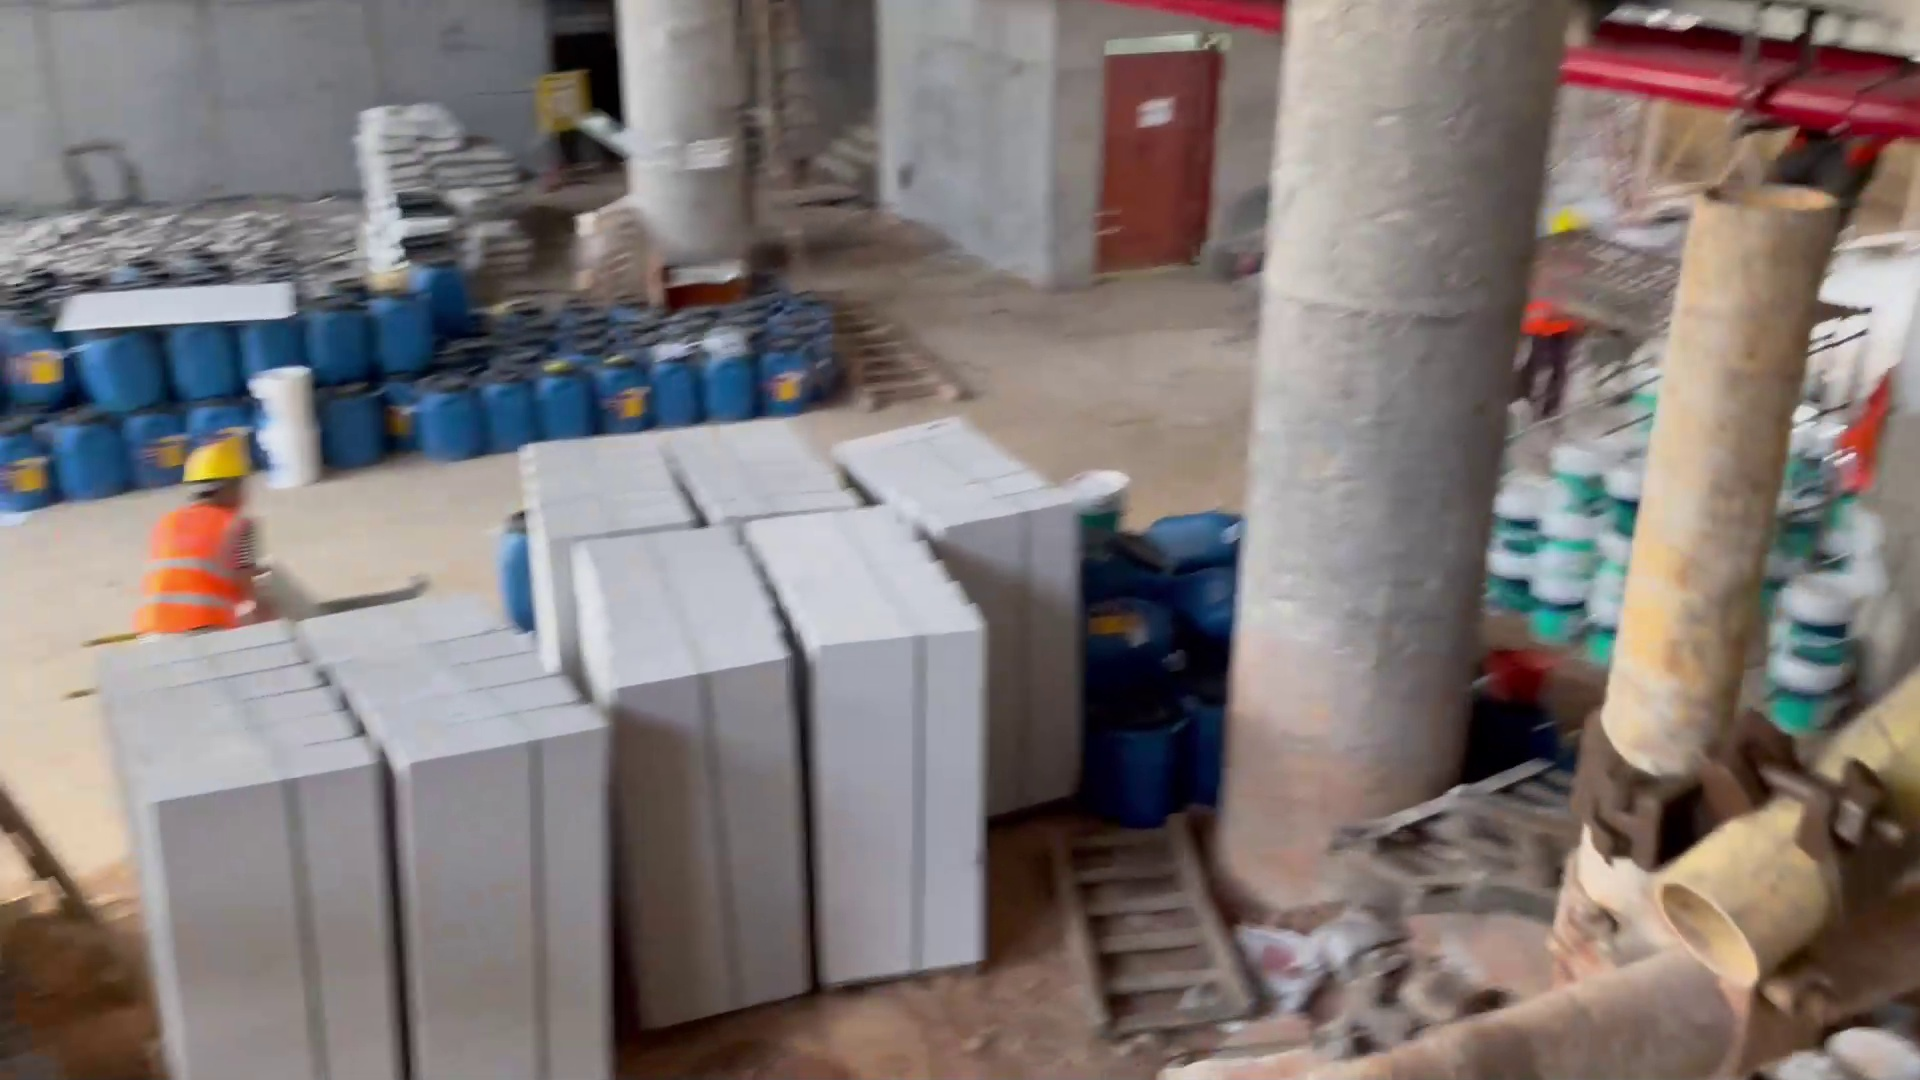helmet: (174, 436, 255, 486), (1544, 213, 1575, 240)
person: (124, 433, 315, 623), (1525, 195, 1591, 425)
vest: (136, 504, 271, 616), (1837, 364, 1884, 486), (1534, 251, 1592, 342)
